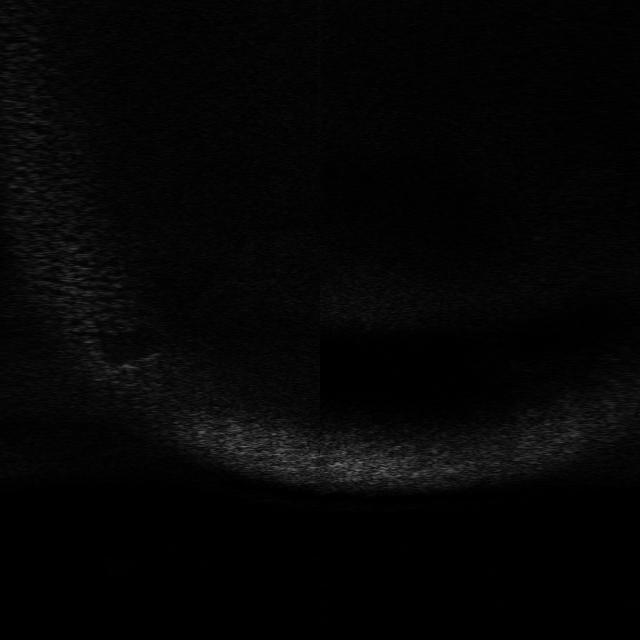plane: (89, 348, 162, 383)
